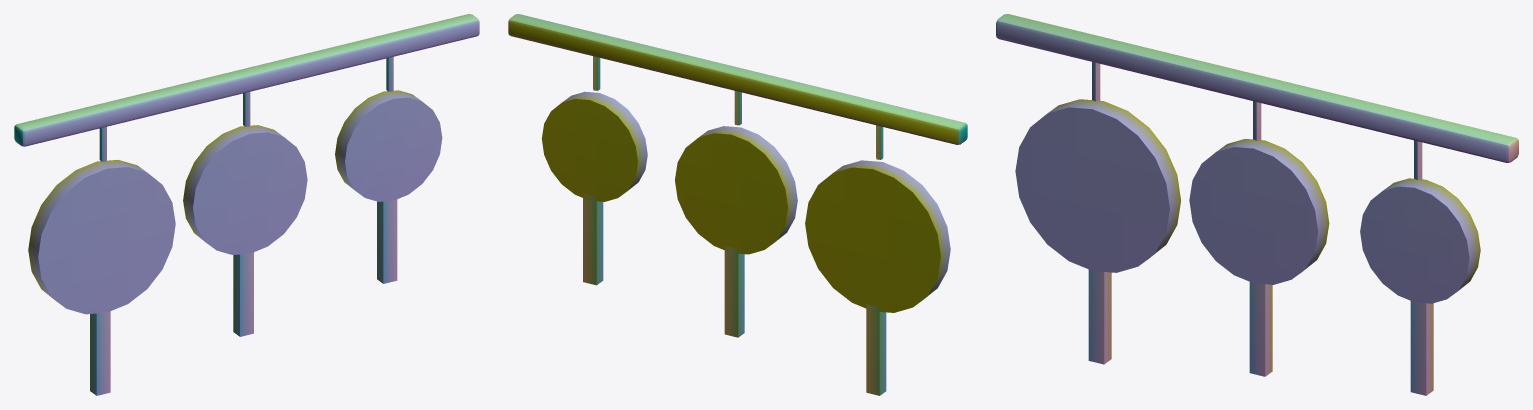
Rendered from kitchen_pans.glb.
The picture shows the model from 3 angles, left to right: view 1: azimuth 30°, elevation 25°; view 2: azimuth 150°, elevation 25°; view 3: azimuth 330°, elevation 25°; orthographic projection. The views are drawn at different scales.
Parts seen in each view (by area): view 1: kitchen_pans; view 2: kitchen_pans; view 3: kitchen_pans.
Boxes of the visible parts, x1,y1,x2,y2 form: kitchen_pans: (14, 14, 479, 395); kitchen_pans: (508, 14, 967, 395); kitchen_pans: (996, 14, 1518, 395).
Bounding box in the file's own units: 0.8 × 0.48 × 0.035.
